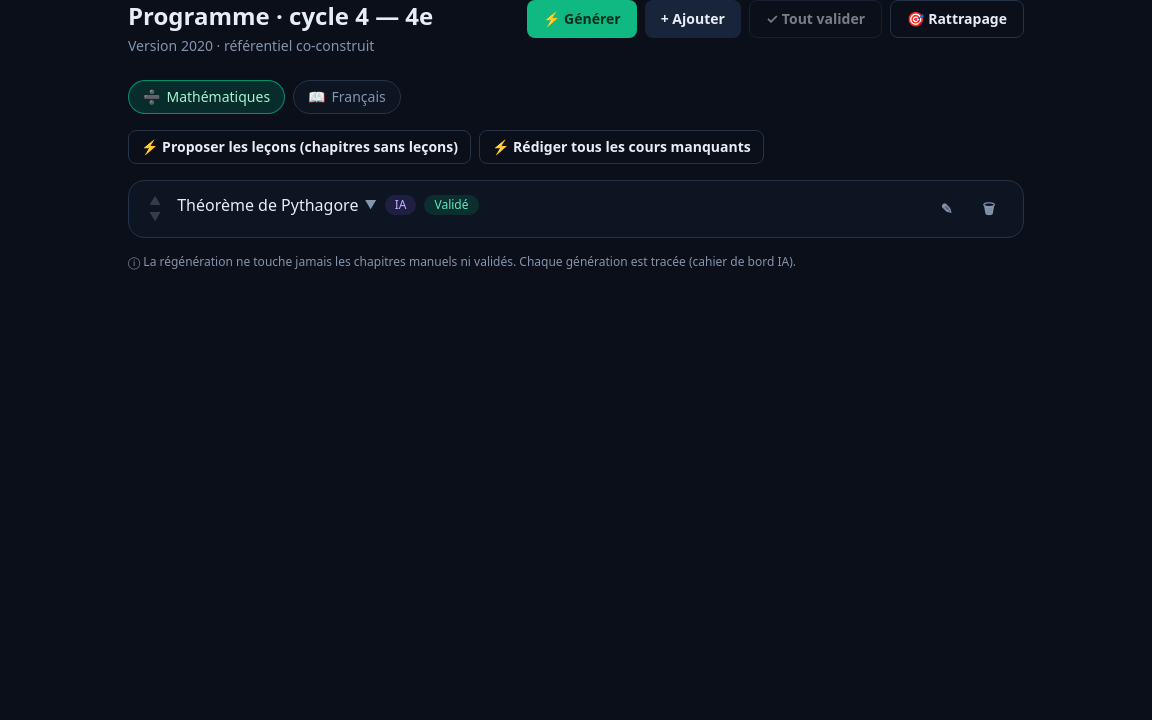
Test: ProgrammePage › modale cours : leçon sans contenu → Rédiger → markdown rendu (leçon remplacée en cache)
Click the button "Théorème de Pythagore ▼": (277,205) [177,193,377,217]
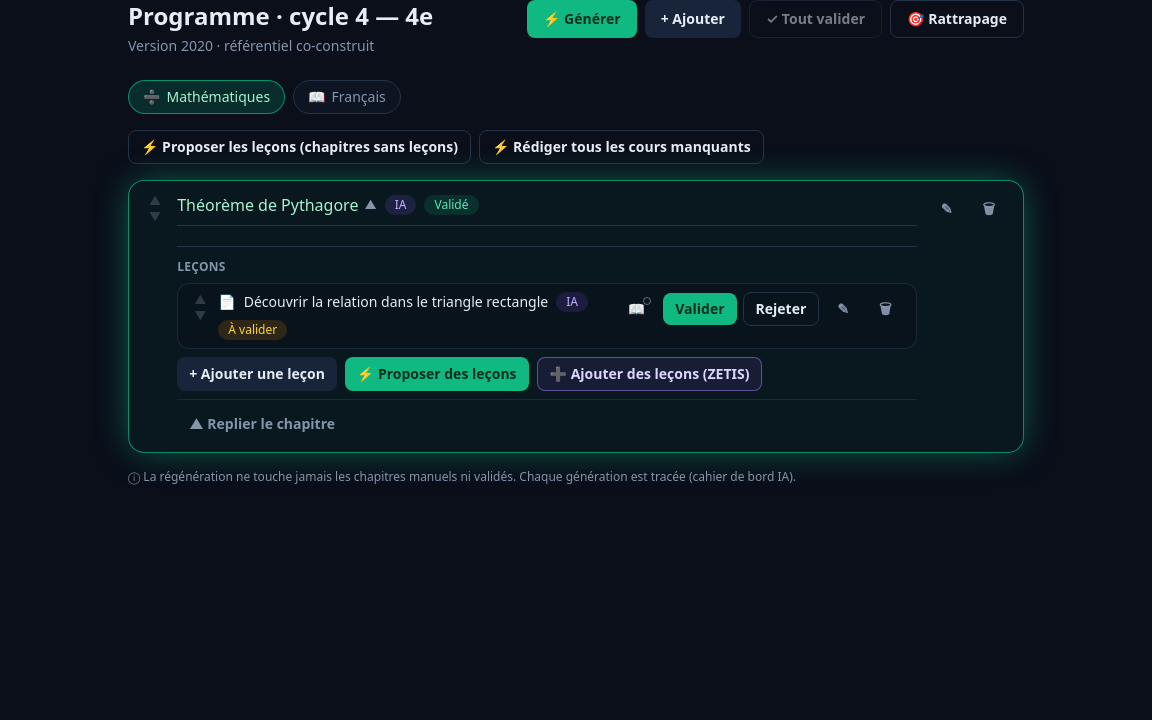
Click the button "📖": (636,309) [616,293,657,325]
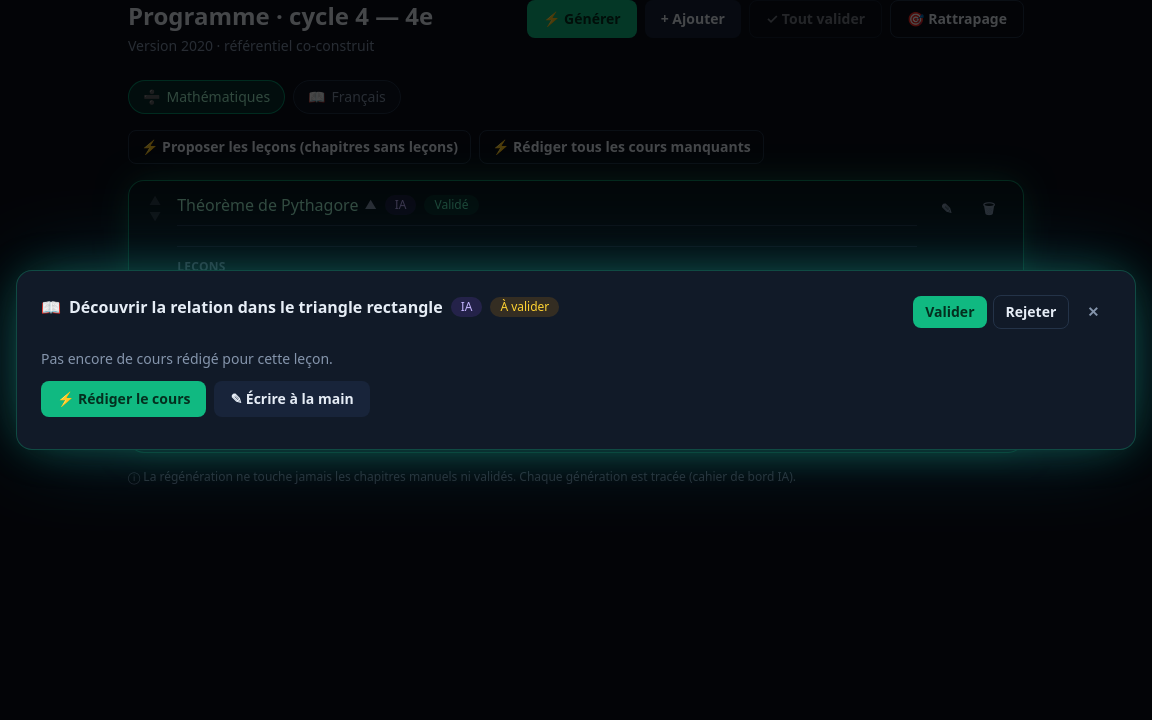
Click the button "⚡ Rédiger le cours": (124,399) [41,381,206,417]
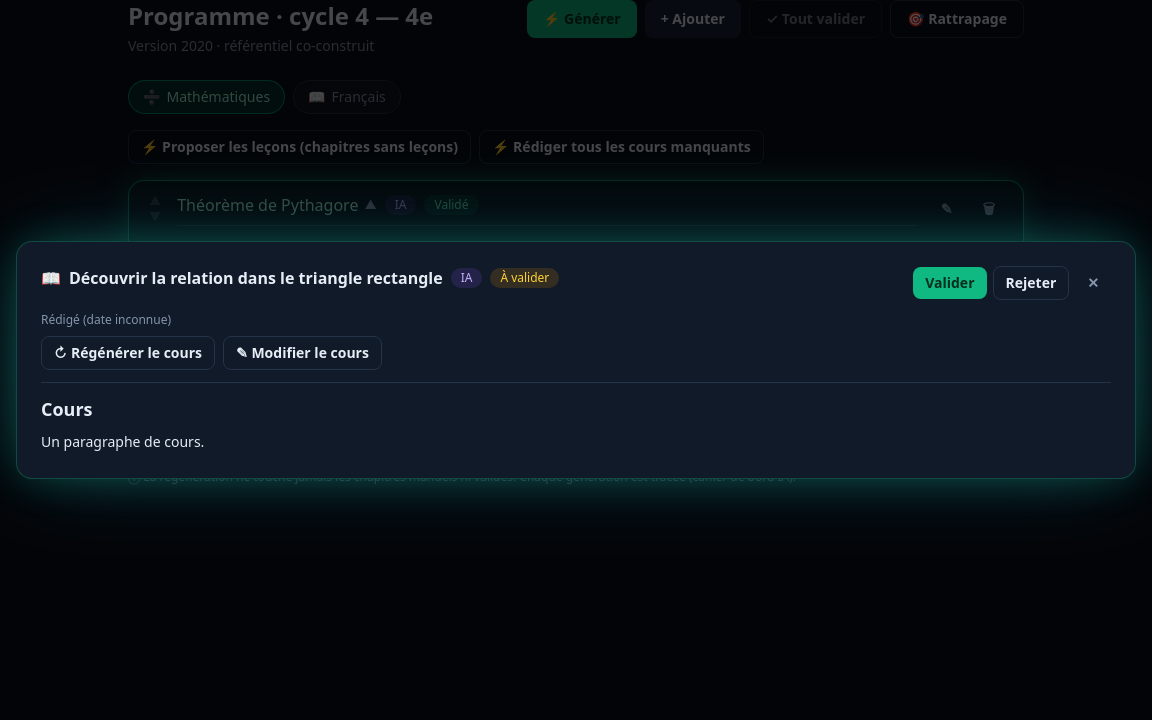
Expected: the text "Un paragraphe de cours." is shown, [41,432,204,451]
Expected: the button "↻ Régénérer le cours" is shown, [41,336,215,370]
